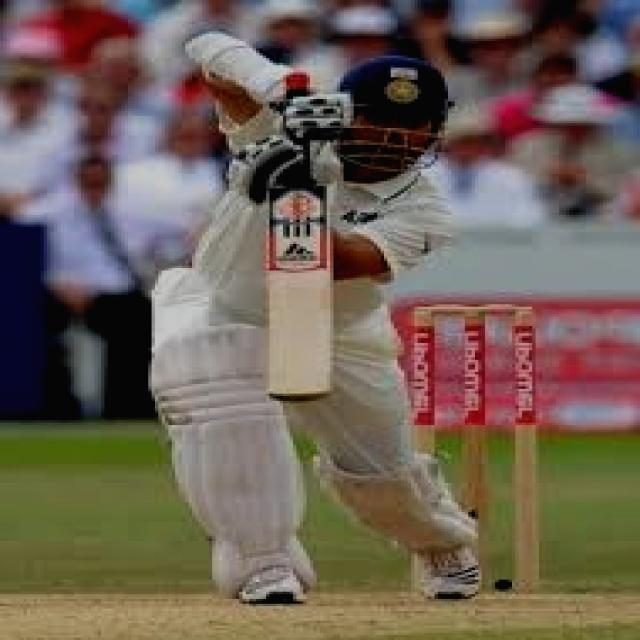bat: (259, 188, 338, 405)
toe: (269, 389, 335, 404)
